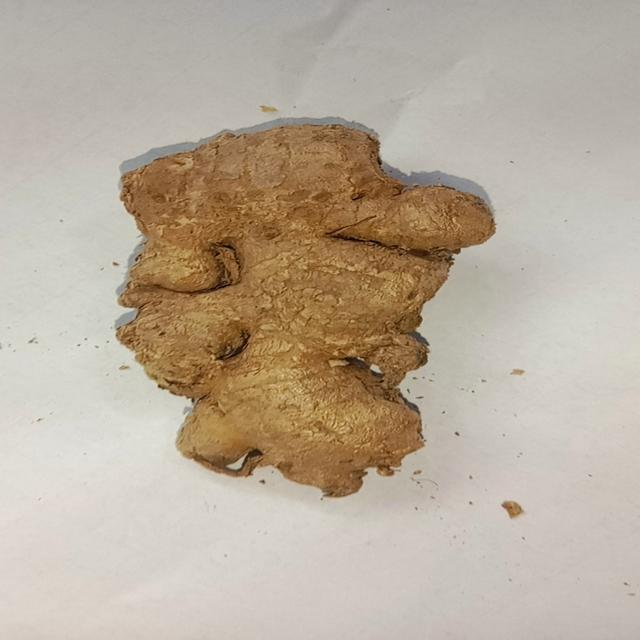ginger: (103, 132, 492, 496)
